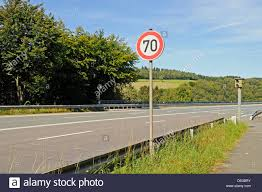Speed_limit_70km: (136, 30, 164, 61)
